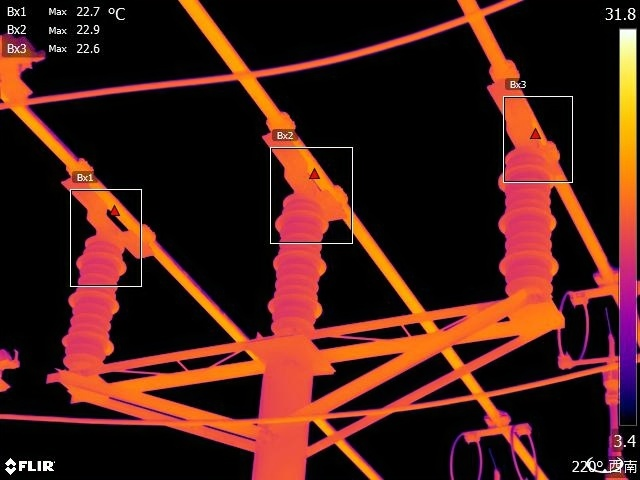post insulator: (491, 146, 564, 290), (57, 235, 133, 363), (263, 201, 332, 333)
